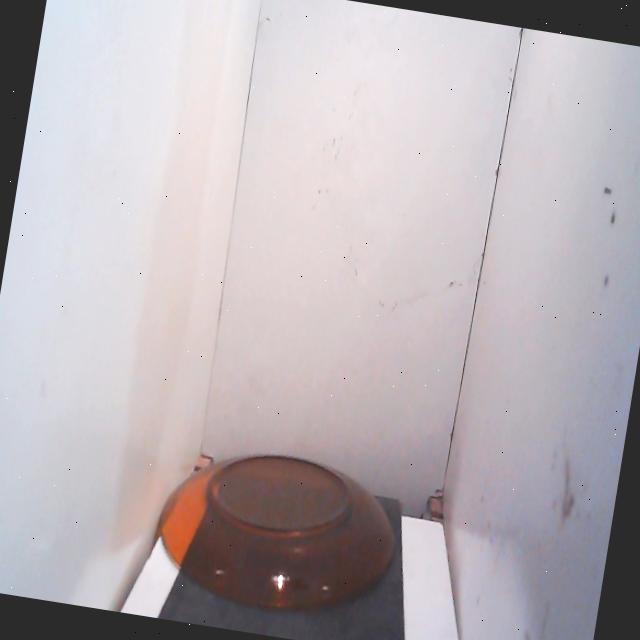vidro: (142, 437, 410, 639)
